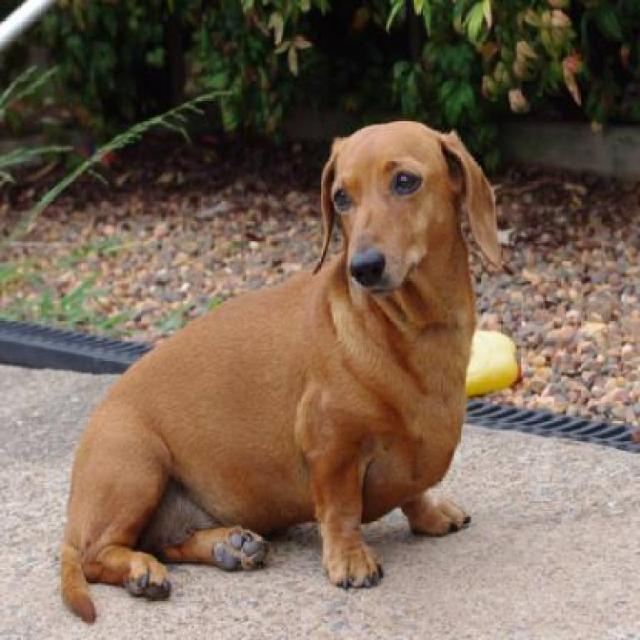Dog: (52, 117, 510, 625)
